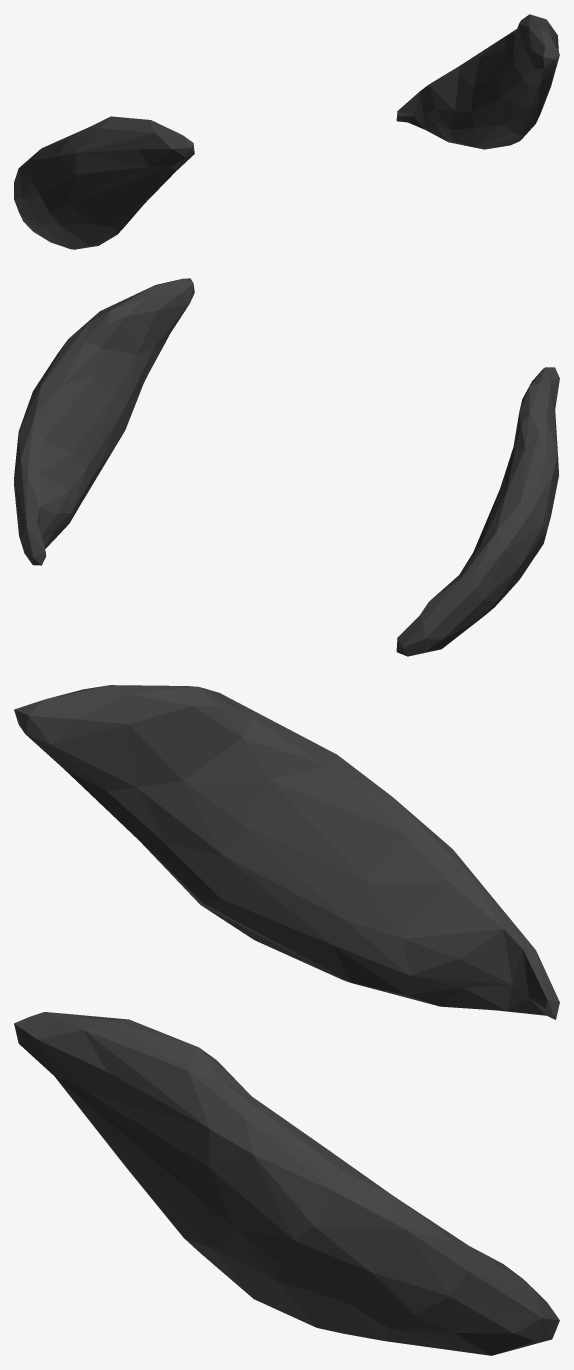
File: m_triceps_brachii_lat.glb
3 renders of one model, top to bottom at view 1: azimuth 30°, elevation 25°; view 2: azimuth 150°, elevation 25°; view 3: azimuth 270°, elevation 25°, orthographic. The views are drawn at different scales.
Parts seen in each view (by area): view 1: m_triceps_brachii_lat; view 2: m_triceps_brachii_lat; view 3: m_triceps_brachii_lat.
Part boxes in pixels (x1=…): m_triceps_brachii_lat: x1=14, y1=14, x2=559, y2=249; m_triceps_brachii_lat: x1=14, y1=278, x2=559, y2=656; m_triceps_brachii_lat: x1=14, y1=685, x2=559, y2=1355.
Size of the model in its own units: 0.00811 by 0.00284 by 0.00427.
Materials: 1 (1 with a texture image).
